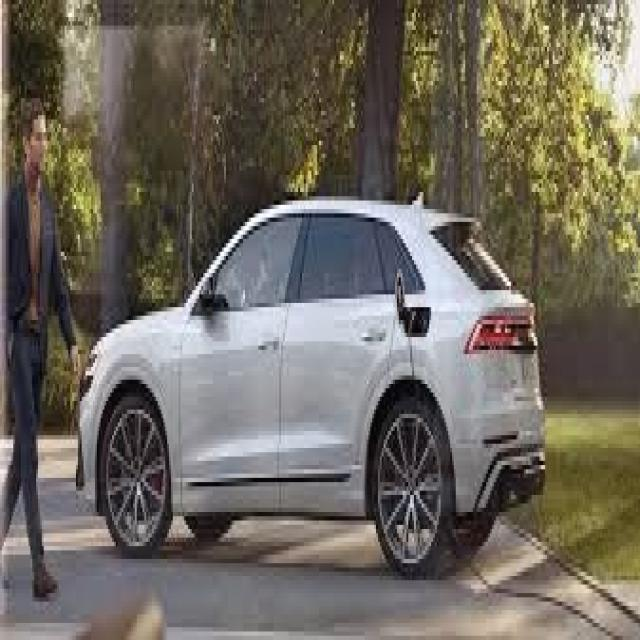SUV: (76, 197, 542, 576)
